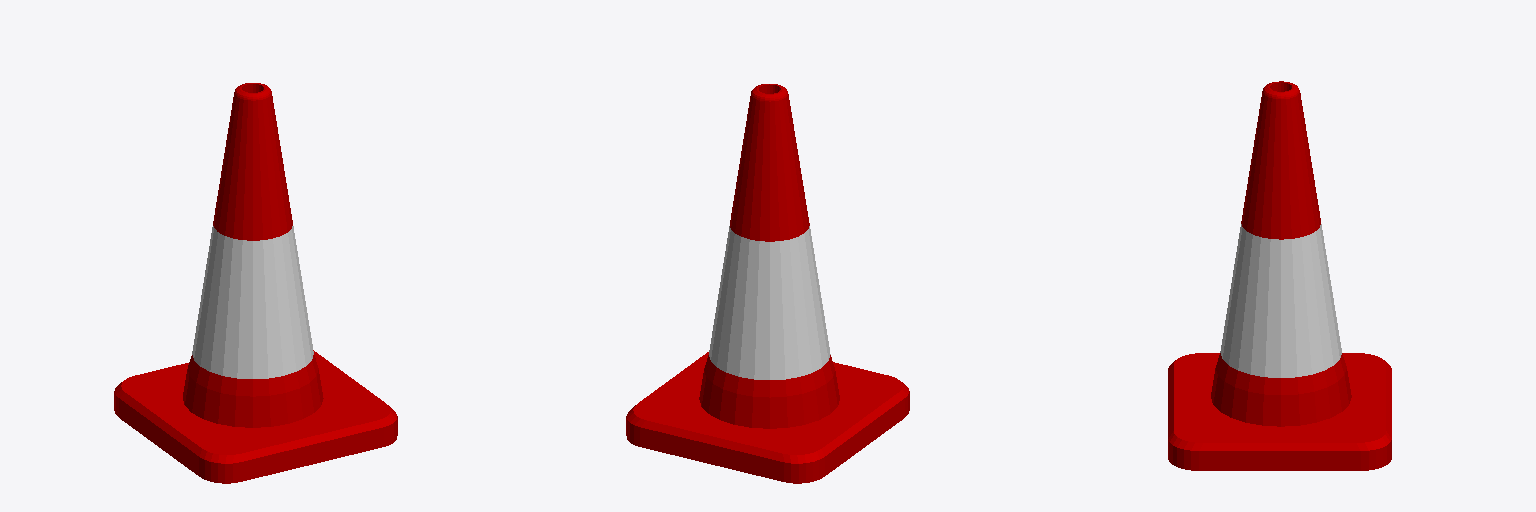
Rendered from warncone.obj.
3 views of the same model, side by side, from view 1: azimuth 30°, elevation 25°; view 2: azimuth 150°, elevation 25°; view 3: azimuth 270°, elevation 25° (orthographic).
Size of the model in its own units: 26.95 by 44.64 by 26.95.